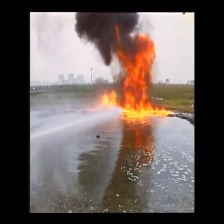fire: (91, 27, 176, 121)
